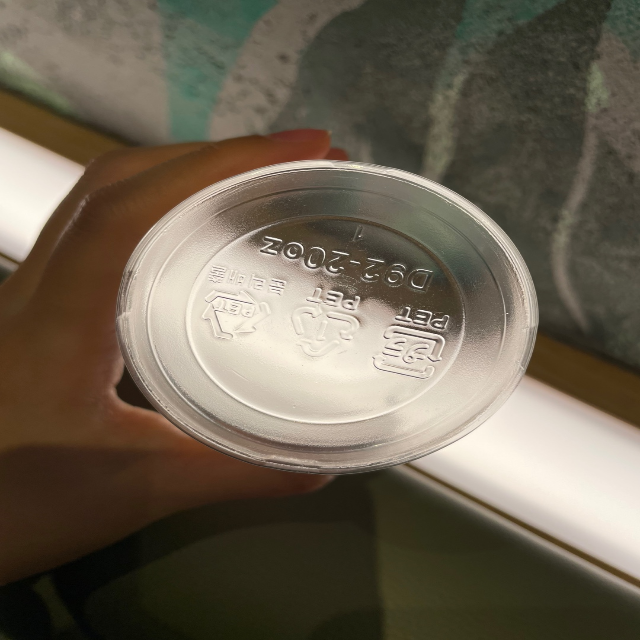pet: (197, 256, 284, 349), (375, 300, 463, 385), (287, 279, 367, 363)
